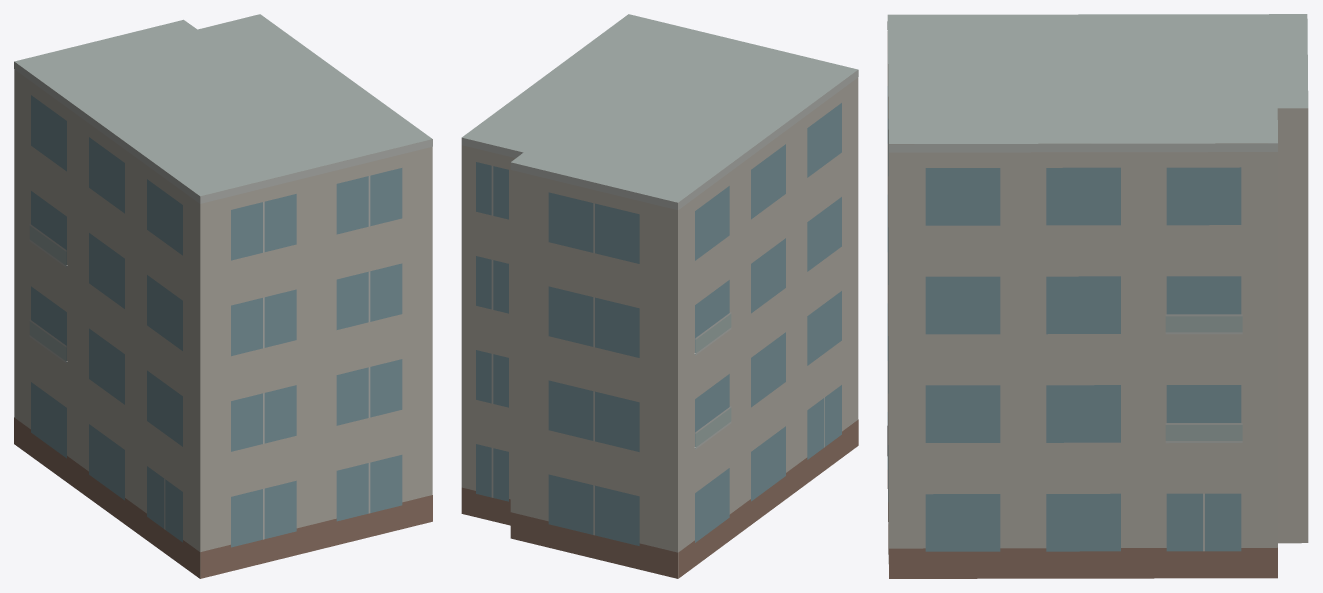
File: residential-f006aedc-4c95-4612-81a5-3e64943bab4a.glb
3 views of the same model, side by side, from view 1: azimuth 30°, elevation 25°; view 2: azimuth 150°, elevation 25°; view 3: azimuth 270°, elevation 25° (orthographic). The views are drawn at different scales.
Visible parts, largest first — view 1: residential-f006aedc-4c95-4612-81a5-3e64943bab4a.tmp; view 2: residential-f006aedc-4c95-4612-81a5-3e64943bab4a.tmp; view 3: residential-f006aedc-4c95-4612-81a5-3e64943bab4a.tmp.
Boxes of the visible parts, bbox=[...] form: residential-f006aedc-4c95-4612-81a5-3e64943bab4a.tmp: bbox=[14, 14, 432, 578]; residential-f006aedc-4c95-4612-81a5-3e64943bab4a.tmp: bbox=[461, 14, 858, 578]; residential-f006aedc-4c95-4612-81a5-3e64943bab4a.tmp: bbox=[887, 14, 1308, 578].
Size of the model in its own units: 7.87 by 12.2 by 10.71.
